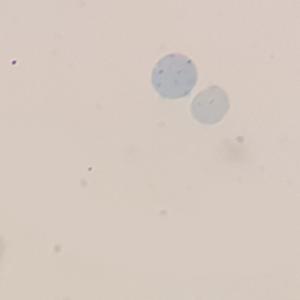punctate reticulocyte: (149, 52, 200, 100), (188, 83, 231, 126)
